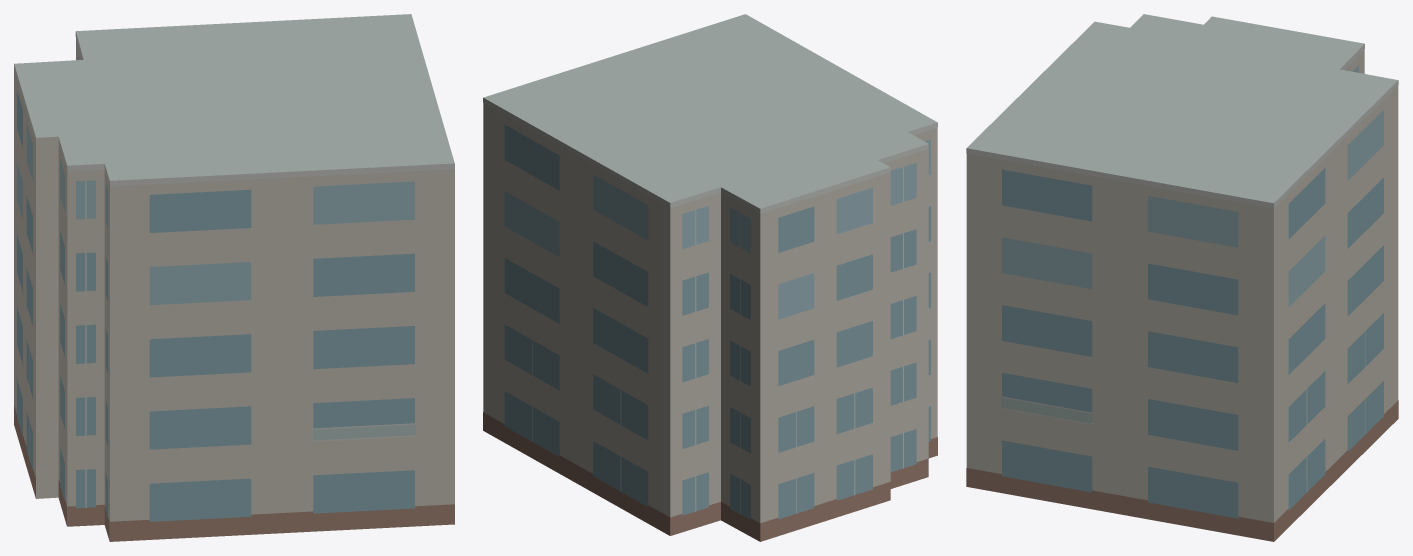
File: survey-upis-33041529.glb
The picture shows the model from 3 angles, left to right: view 1: azimuth 30°, elevation 25°; view 2: azimuth 150°, elevation 25°; view 3: azimuth 270°, elevation 25°; orthographic projection. The views are drawn at different scales.
Visible parts, largest first — view 1: survey-upis-33041529.tmp; view 2: survey-upis-33041529.tmp; view 3: survey-upis-33041529.tmp.
Part boxes in pixels (<box>): survey-upis-33041529.tmp: <box>14,14,454,541</box>; survey-upis-33041529.tmp: <box>483,14,937,541</box>; survey-upis-33041529.tmp: <box>966,14,1398,541</box>.
Bounding box in the file's own units: 18.71 × 15.6 × 18.05.
